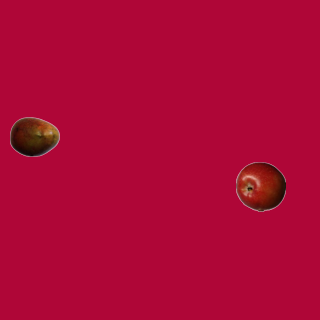Apple Braeburn: (235, 161, 285, 211)
Mango Red: (9, 111, 59, 161)
